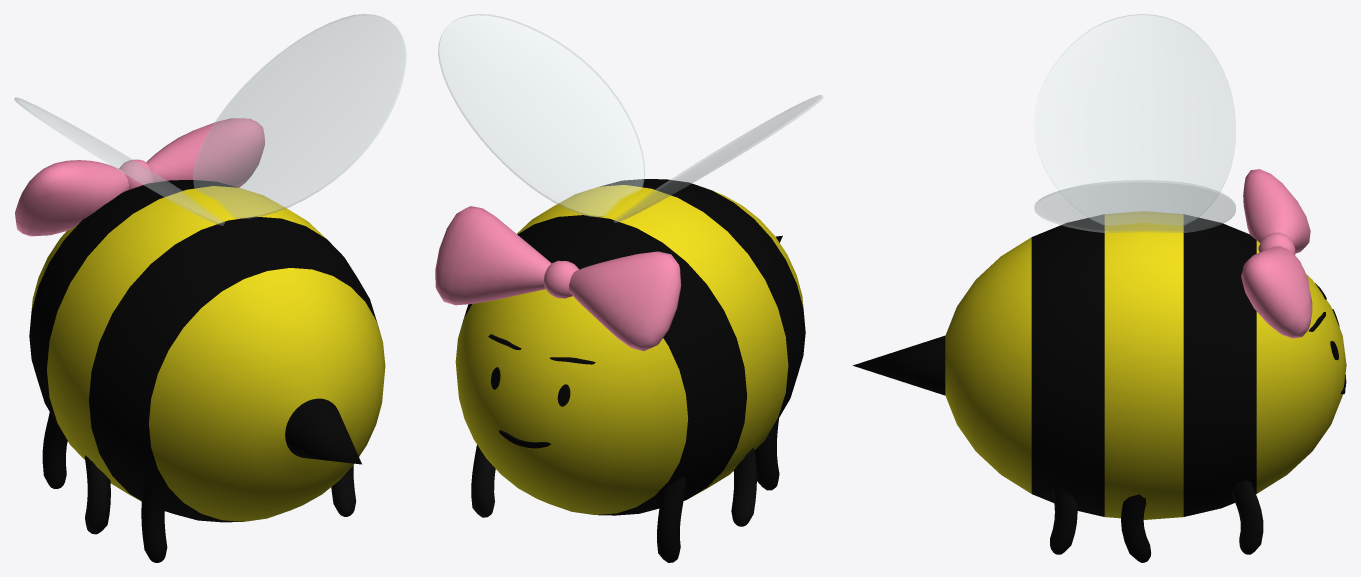
The model's file is Dee Hive.glb.
The picture shows the model from 3 angles, left to right: view 1: azimuth 30°, elevation 25°; view 2: azimuth 150°, elevation 25°; view 3: azimuth 270°, elevation 25°; orthographic projection. The views are drawn at different scales.
Parts seen in each view (by area): view 1: Body.002, wing right dee, hair bow, Legs.002, wing left dee; view 2: Body.002, wing right dee, hair bow, Legs.002, wing left dee; view 3: Body.002, wing left dee, hair bow, wing right dee, Legs.002.
Part boxes in pixels (bbox=[...]): Body.002: bbox=[29, 180, 385, 522]; wing right dee: bbox=[193, 14, 406, 218]; hair bow: bbox=[15, 118, 264, 236]; Legs.002: bbox=[42, 412, 356, 562]; wing left dee: bbox=[14, 97, 224, 225]; Body.002: bbox=[455, 179, 805, 515]; wing right dee: bbox=[438, 14, 644, 217]; hair bow: bbox=[435, 206, 681, 351]; Legs.002: bbox=[471, 418, 779, 562]; wing left dee: bbox=[614, 95, 823, 222]; Body.002: bbox=[853, 211, 1346, 519]; wing left dee: bbox=[1034, 14, 1235, 225]; hair bow: bbox=[1241, 169, 1312, 338]; wing right dee: bbox=[1034, 180, 1235, 232]; Legs.002: bbox=[1050, 480, 1263, 562].
Size of the model in its own units: 1.74 by 2.02 by 2.18.
Materials: 3 (3 with a texture image).
